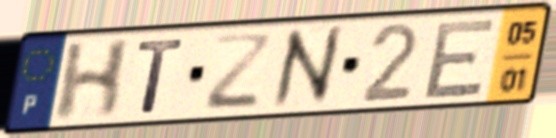2: (356, 20, 421, 106)
E: (419, 15, 500, 102)
H: (50, 35, 137, 124)
N: (269, 22, 345, 114)
T: (134, 35, 189, 116)
Z: (201, 32, 277, 114)
